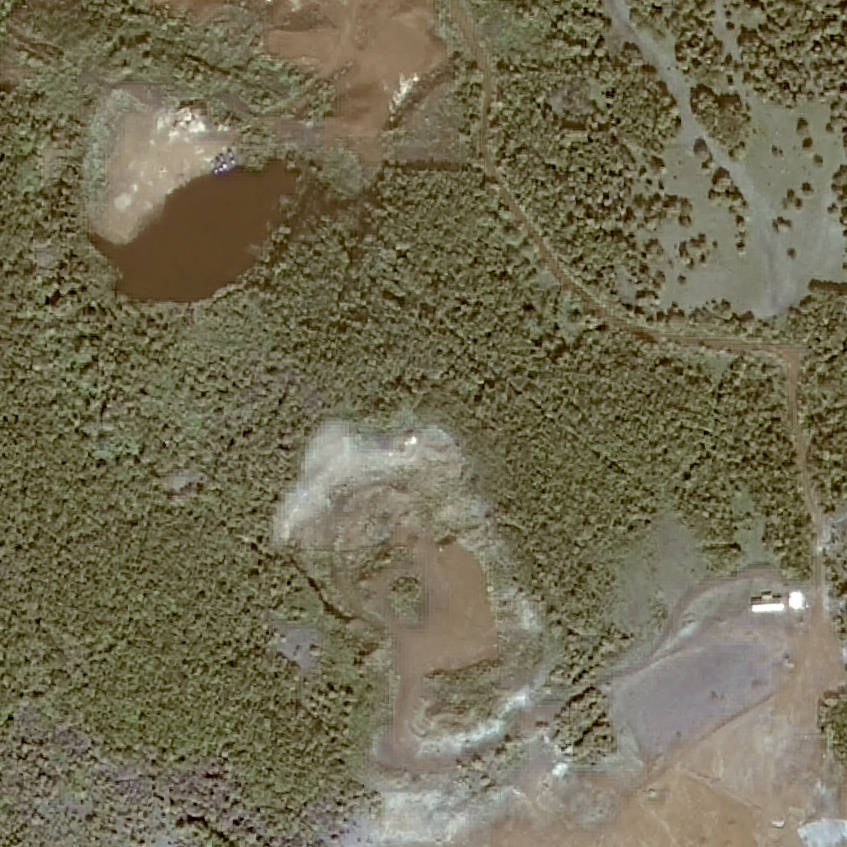slope: (261, 411, 469, 561)
